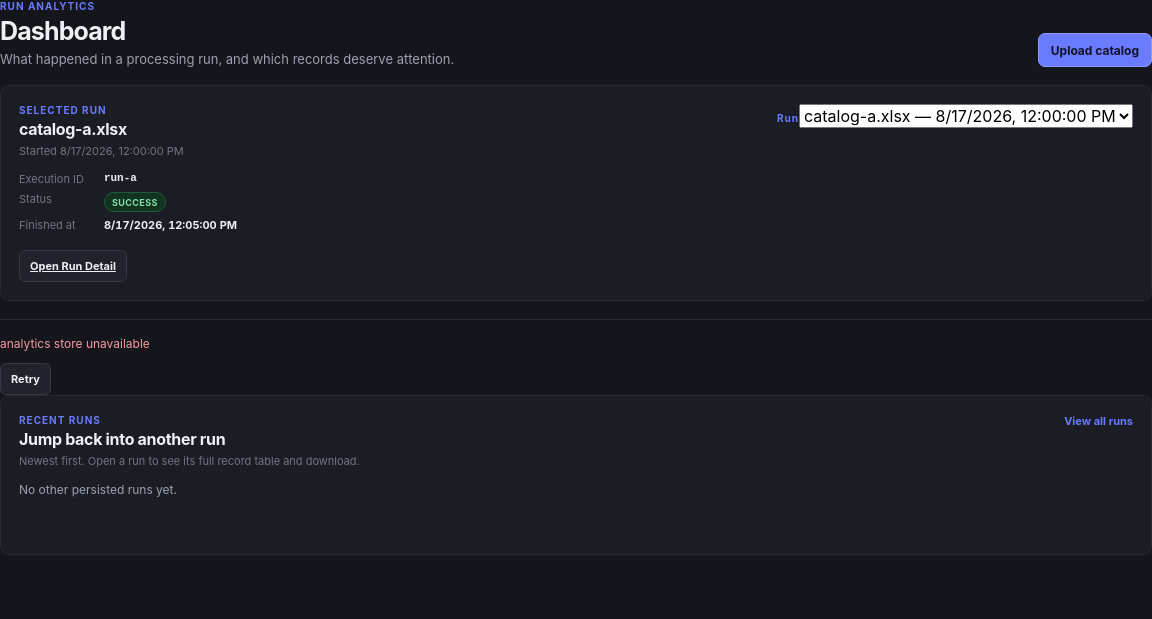
DashboardPage › shows an analytics error state with retry, independent of the run selector
Expected: the heading "catalog-a.xlsx" is shown, [19,119,127,139]
Expected: the message reads "analytics store unavailable", [0,336,150,351]
Click the button "Retry". click: (26, 379)
box: [0,363,51,395]
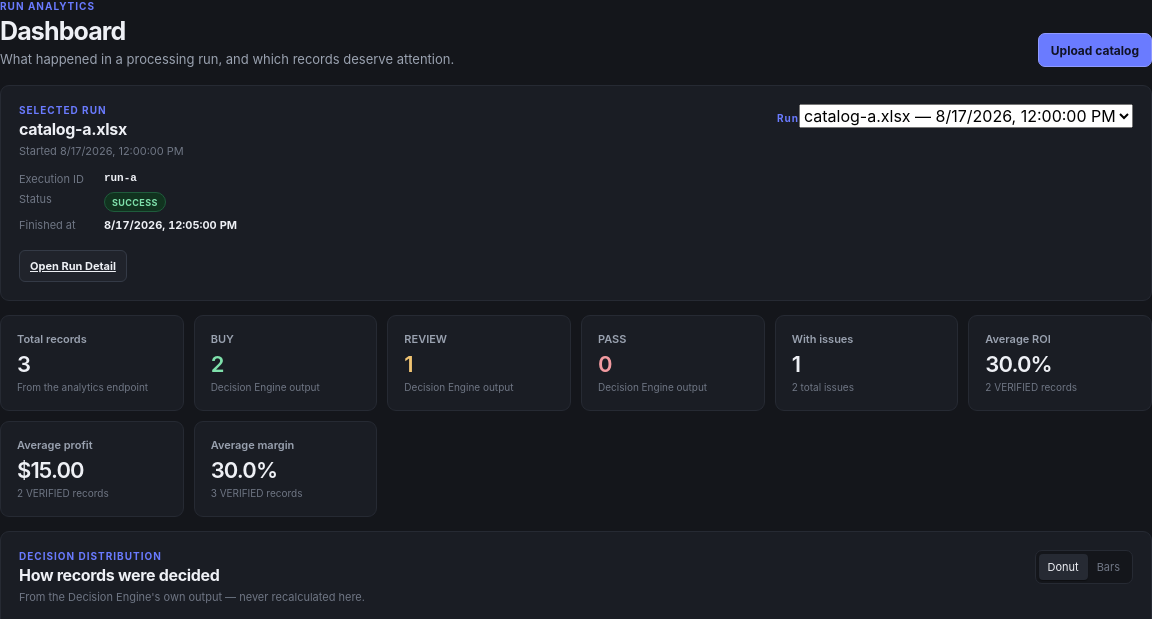
Expected: the text "2" is shown, [211,351,224,377]
